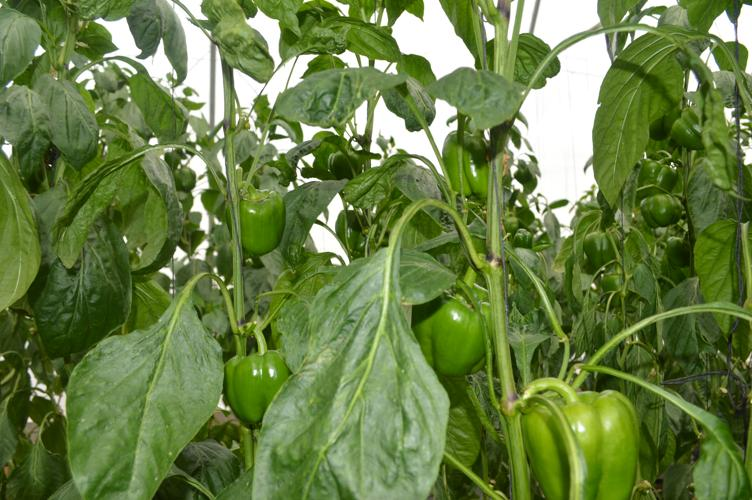BellPepper: (526, 387, 643, 496), (413, 297, 487, 381), (219, 348, 288, 423), (229, 188, 285, 258), (439, 132, 489, 195)
